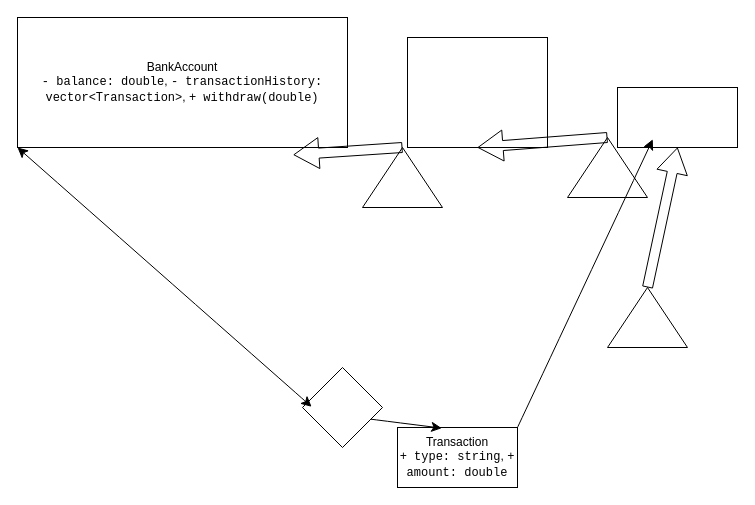
Some shapes in this 755 by 505 pixel diagram are drawn without their labels. Each missing label, with the centre of its shape:
"CheckingAccount - transactionFee: double" goes at point (477, 92).
"SavingsAccount - interestRate: double" goes at point (677, 117).
